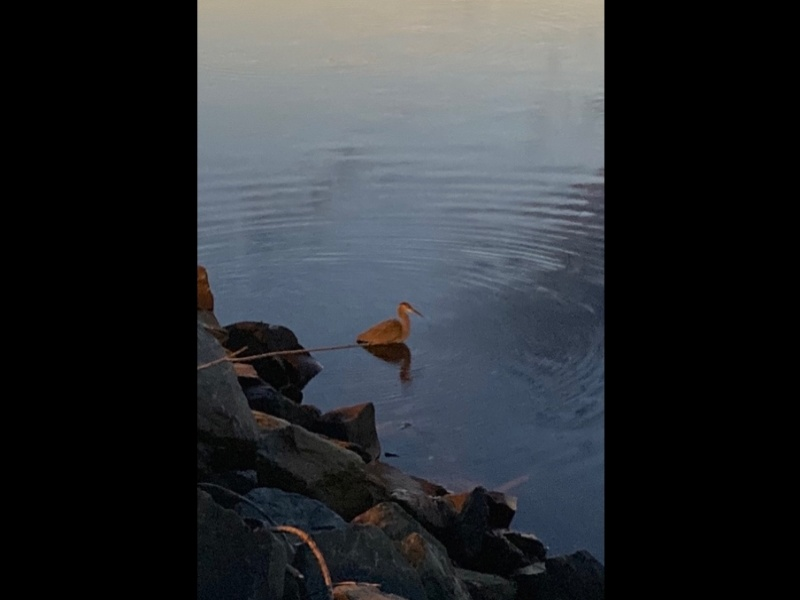heron: (354, 298, 428, 345)
